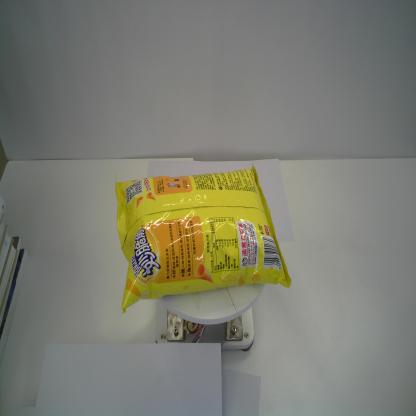Puffed Food: (111, 160, 291, 316)
